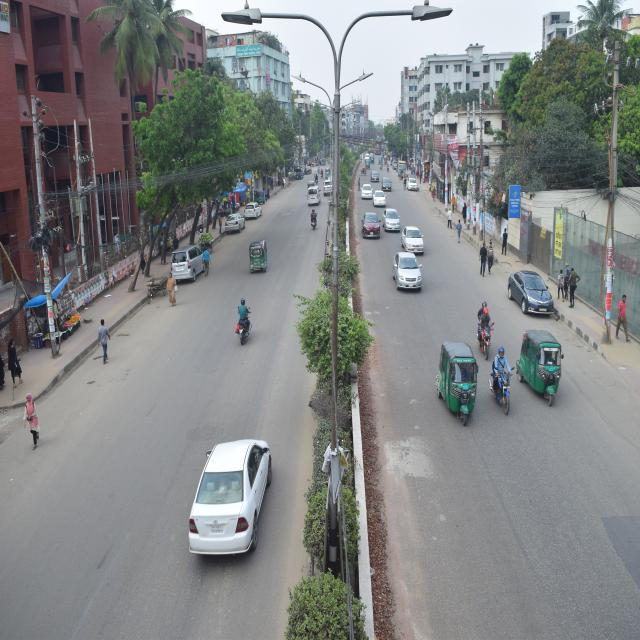car: (192, 438, 277, 564), (508, 267, 556, 323), (392, 249, 423, 289), (224, 210, 248, 239), (404, 223, 428, 252), (243, 190, 266, 220), (362, 211, 381, 238), (305, 177, 323, 203), (407, 168, 421, 198), (373, 185, 384, 210), (386, 204, 396, 231), (360, 174, 372, 196), (373, 168, 381, 182)
microbus: (168, 234, 212, 289)
motorbike: (489, 348, 515, 420), (473, 303, 499, 351), (232, 294, 256, 346), (307, 204, 323, 231)
